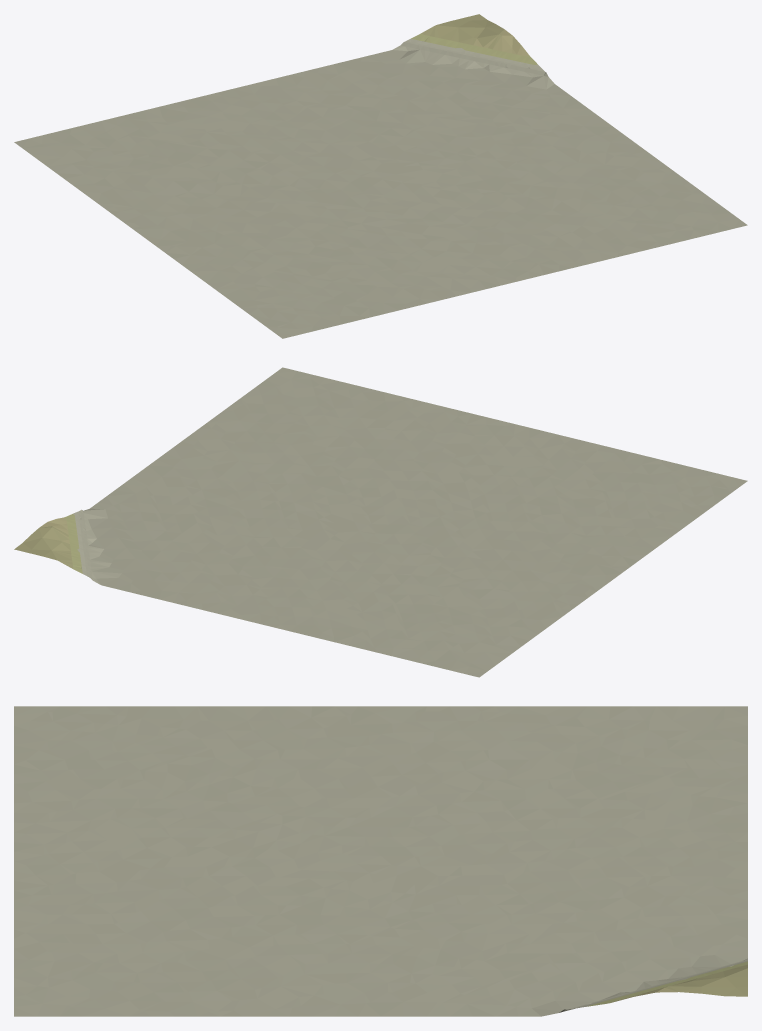
File: Ground_-4_-3.glb
3 views of the same model, one above another, from view 1: azimuth 30°, elevation 25°; view 2: azimuth 150°, elevation 25°; view 3: azimuth 270°, elevation 25° (orthographic). The views are drawn at different scales.
Visible parts, largest first — view 1: Ground_-4_-3; view 2: Ground_-4_-3; view 3: Ground_-4_-3.
Part boxes in pixels (x1,y1,x2,y2): Ground_-4_-3: (14, 14, 747, 338); Ground_-4_-3: (14, 367, 747, 677); Ground_-4_-3: (14, 706, 747, 1016).
Bounding box in the file's own units: 768 × 28.24 × 768.
